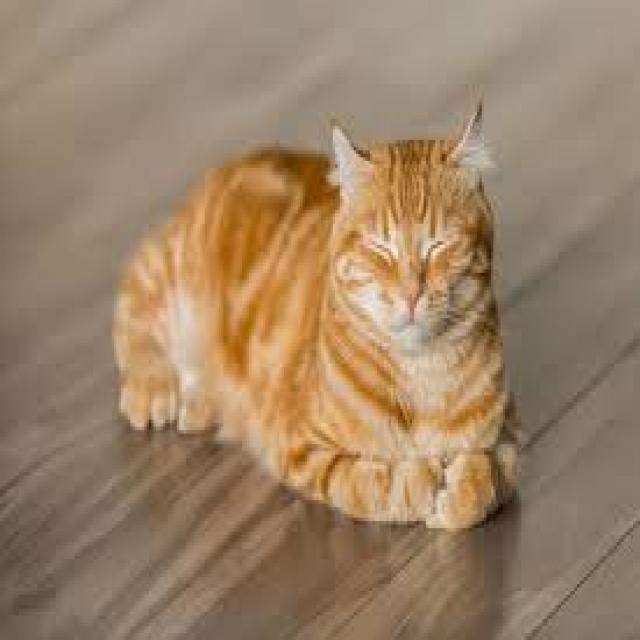cat: (104, 80, 544, 546)
